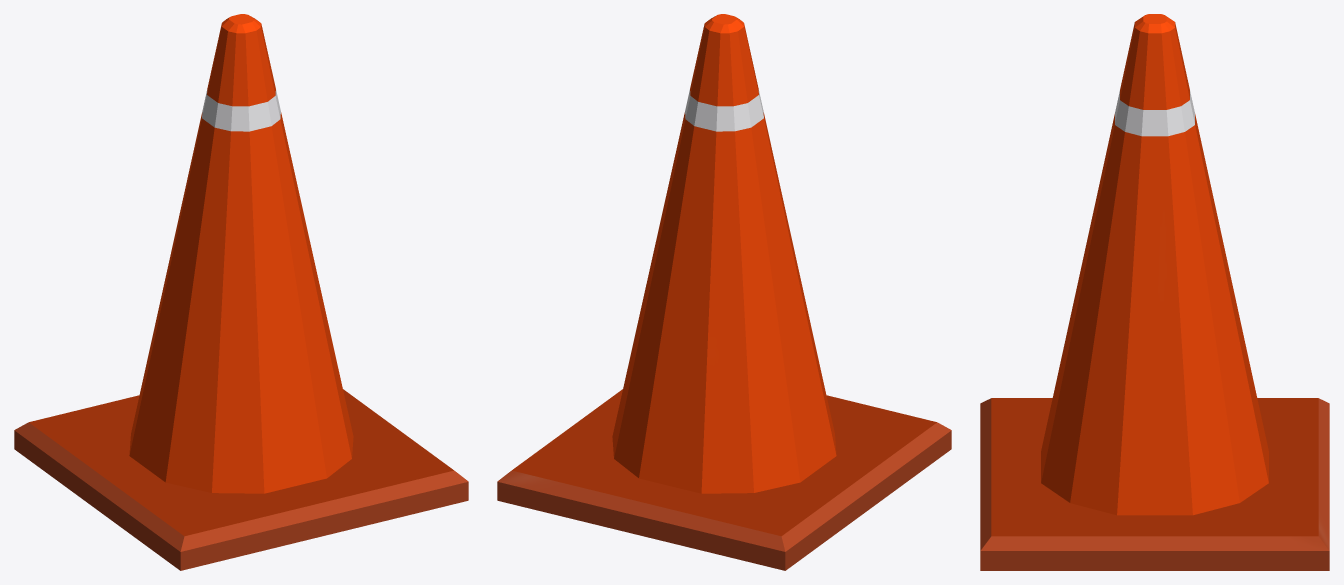
The model's file is cono.fbx.
The picture shows the model from 3 angles, left to right: view 1: azimuth 30°, elevation 25°; view 2: azimuth 150°, elevation 25°; view 3: azimuth 270°, elevation 25°; orthographic projection. The views are drawn at different scales.
Visible parts, largest first — view 1: CONO; view 2: CONO; view 3: CONO.
Part boxes in pixels (x1,y1,x2,y2): CONO: (14, 14, 468, 570); CONO: (497, 14, 951, 570); CONO: (980, 14, 1329, 570).
Size of the model in its own units: 200 by 302 by 200.
1 material, 1 textured.
